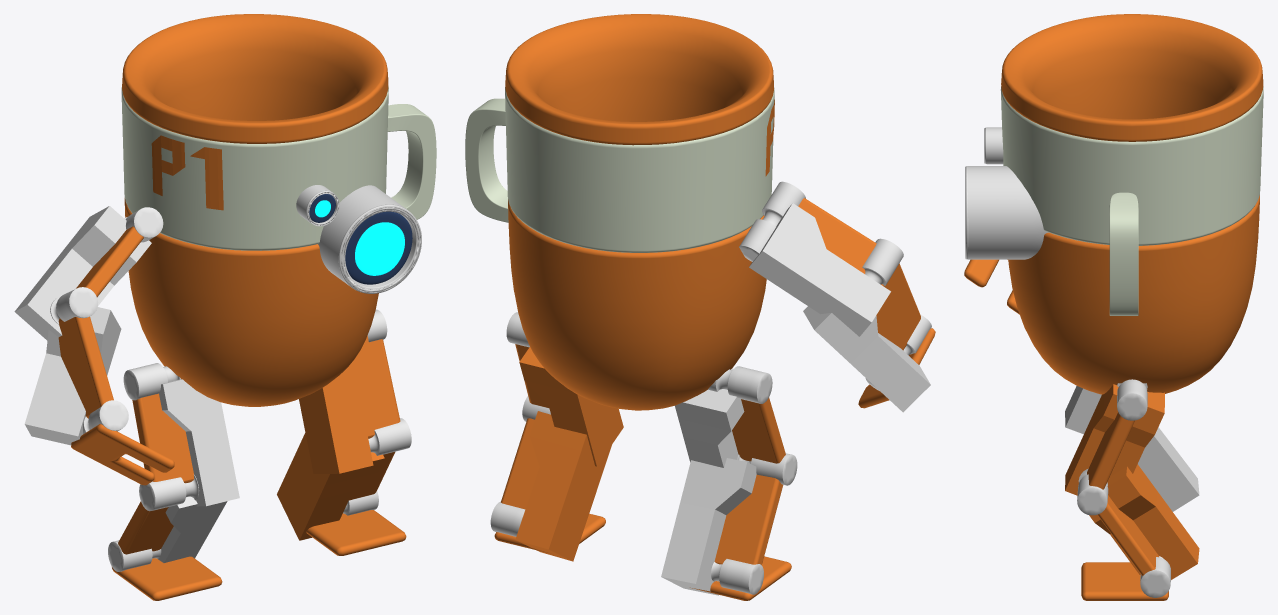
File: Robot-Cup.fbx
3 views of the same model, side by side, from view 1: azimuth 30°, elevation 25°; view 2: azimuth 150°, elevation 25°; view 3: azimuth 270°, elevation 25° (orthographic). The views are drawn at different scales.
Parts seen in each view (by area): view 1: Roundcube, Roundcube.001, Cylinder, Cube.010, Cube.017, Cube.002, Cube.019, Cube.012, Cube, Cube.020, Cube.003, Cube.021 (+15 smaller); view 2: Roundcube, Roundcube.001, Cube.017, Cube.012, Cube.005, Cube.019, Cube.010, Cube.002, Cube, Cube.006, Cube.003, Cube.020 (+11 smaller); view 3: Roundcube, Roundcube.001, Cylinder, Cube.012, Cube.010, Cube, Cube.005, Cube.014, Cube.013, Cube.011, Cube.002, Cylinder.004 (+3 smaller).
Part boxes in pixels (x1,y1,x2,y2): Roundcube: (121, 86, 388, 406); Roundcube.001: (122, 14, 388, 143); Cylinder: (296, 185, 421, 293); Cube.010: (299, 335, 373, 473); Cube.017: (14, 206, 151, 340); Cube.002: (159, 379, 239, 506); Cube.019: (24, 307, 121, 445); Cube.012: (277, 433, 384, 540); Cube: (387, 104, 436, 219); Cube.020: (58, 316, 113, 418); Cube.003: (132, 393, 194, 483); Cube.021: (71, 424, 174, 485); Roundcube: (505, 87, 774, 410); Roundcube.001: (505, 14, 774, 145); Cube.017: (749, 203, 890, 336); Cube.012: (515, 411, 611, 561); Cube.005: (661, 458, 756, 595); Cube.019: (803, 306, 930, 412); Cube.010: (519, 347, 623, 466); Cube.002: (675, 368, 744, 467); Cube: (465, 98, 508, 222); Cube.006: (714, 474, 783, 564); Cube.003: (732, 397, 785, 463); Cube.020: (876, 263, 920, 350); Roundcube: (1000, 86, 1263, 394); Roundcube.001: (1001, 14, 1263, 141); Cylinder: (965, 127, 1048, 259); Cube.012: (1089, 464, 1199, 579); Cube.010: (1065, 384, 1164, 495); Cube: (1109, 192, 1138, 315); Cube.005: (1138, 427, 1199, 511); Cube.014: (1081, 562, 1168, 600); Cube.013: (1097, 495, 1159, 575); Cube.011: (1087, 412, 1134, 489); Cube.002: (1065, 386, 1101, 434); Cylinder.004: (1117, 379, 1147, 420).
Bounding box in the file's own units: 375 × 412 × 232.
